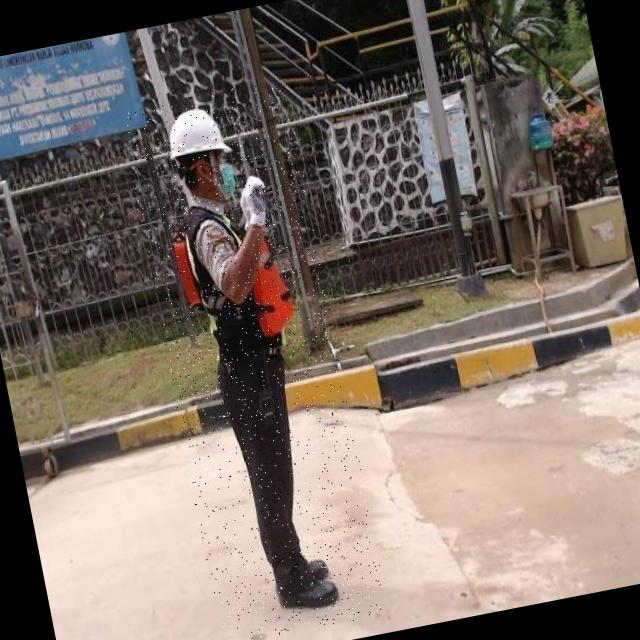hard_hat: (163, 104, 234, 166)
safety_vest: (166, 190, 297, 348)
vehicle: (119, 78, 390, 640)
work_boots: (272, 565, 342, 617)
